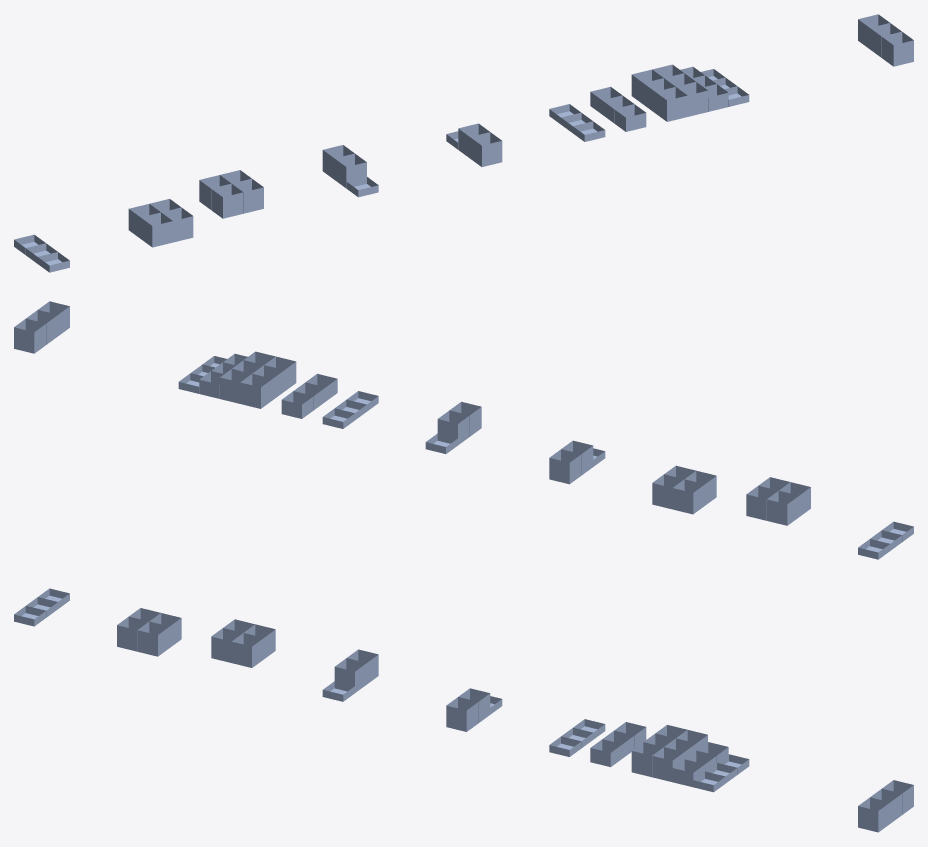
The model's file is trigerFix (3).fbx.
3 views of the same model, one above another, from view 1: azimuth 30°, elevation 25°; view 2: azimuth 150°, elevation 25°; view 3: azimuth 330°, elevation 25° (orthographic).
Parts seen in each view (by area): view 1: Triger Death; view 2: Triger Death; view 3: Triger Death.
Boxes of the visible parts, x1,y1,x2,y2 form: Triger Death: [14, 14, 913, 272]; Triger Death: [14, 301, 913, 559]; Triger Death: [14, 588, 913, 832].
Bounding box in the file's own units: 12597 × 300 × 897.
